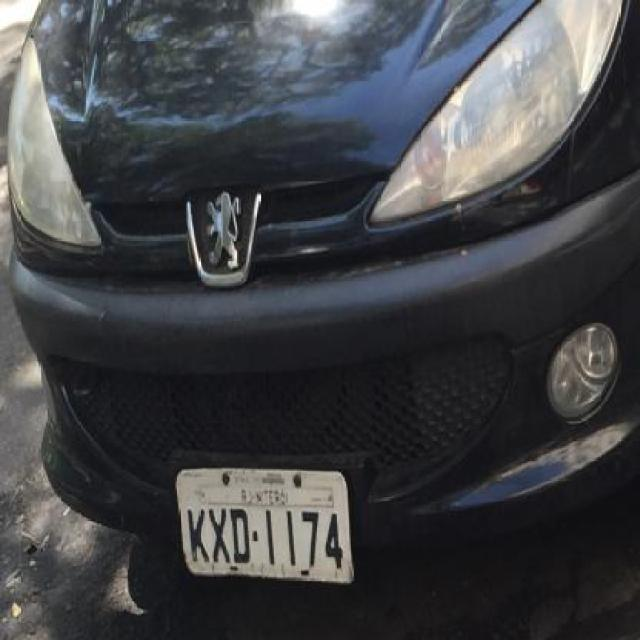old_plate: (174, 463, 360, 588)
